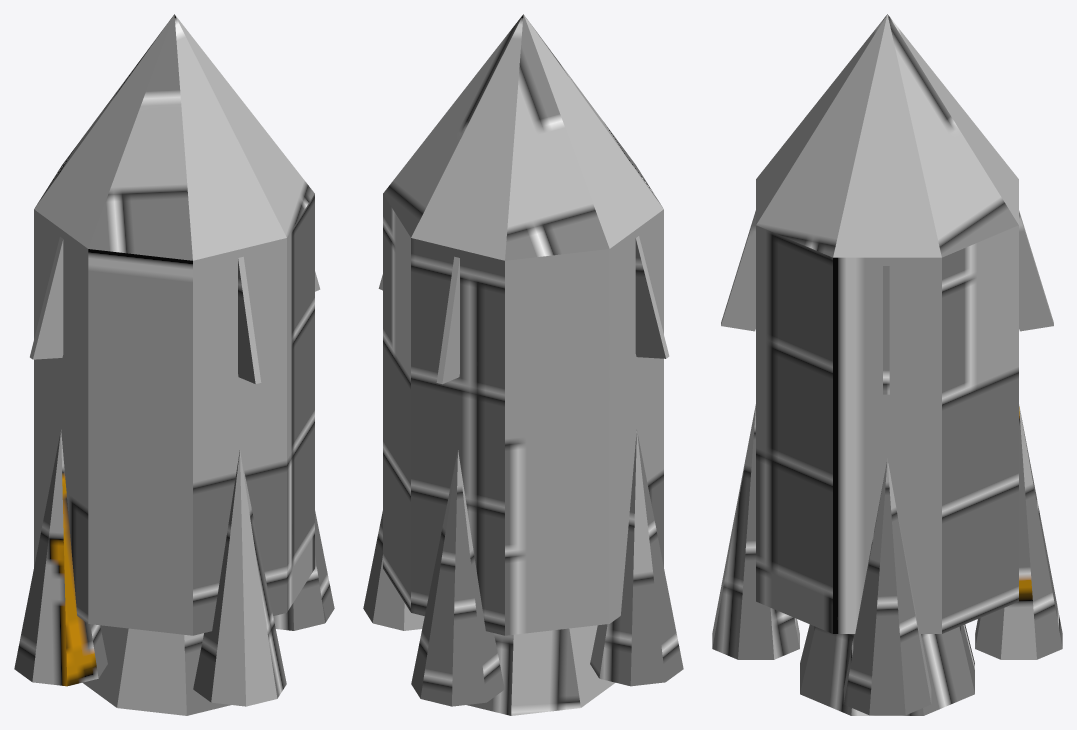
The model's file is mining_rocket.obj.
3 renders of one model, left to right at view 1: azimuth 30°, elevation 25°; view 2: azimuth 150°, elevation 25°; view 3: azimuth 270°, elevation 25°, orthographic.
Visible parts, largest first — view 1: Rocket; view 2: Rocket; view 3: Rocket.
Boxes of the visible parts, x1=… form: Rocket: x1=14, y1=14, x2=334, y2=715; Rocket: x1=363, y1=14, x2=683, y2=715; Rocket: x1=712, y1=14, x2=1062, y2=715.
Size of the model in its own units: 4 by 8.38 by 4.
